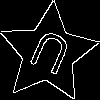U: (23, 28, 74, 85)
